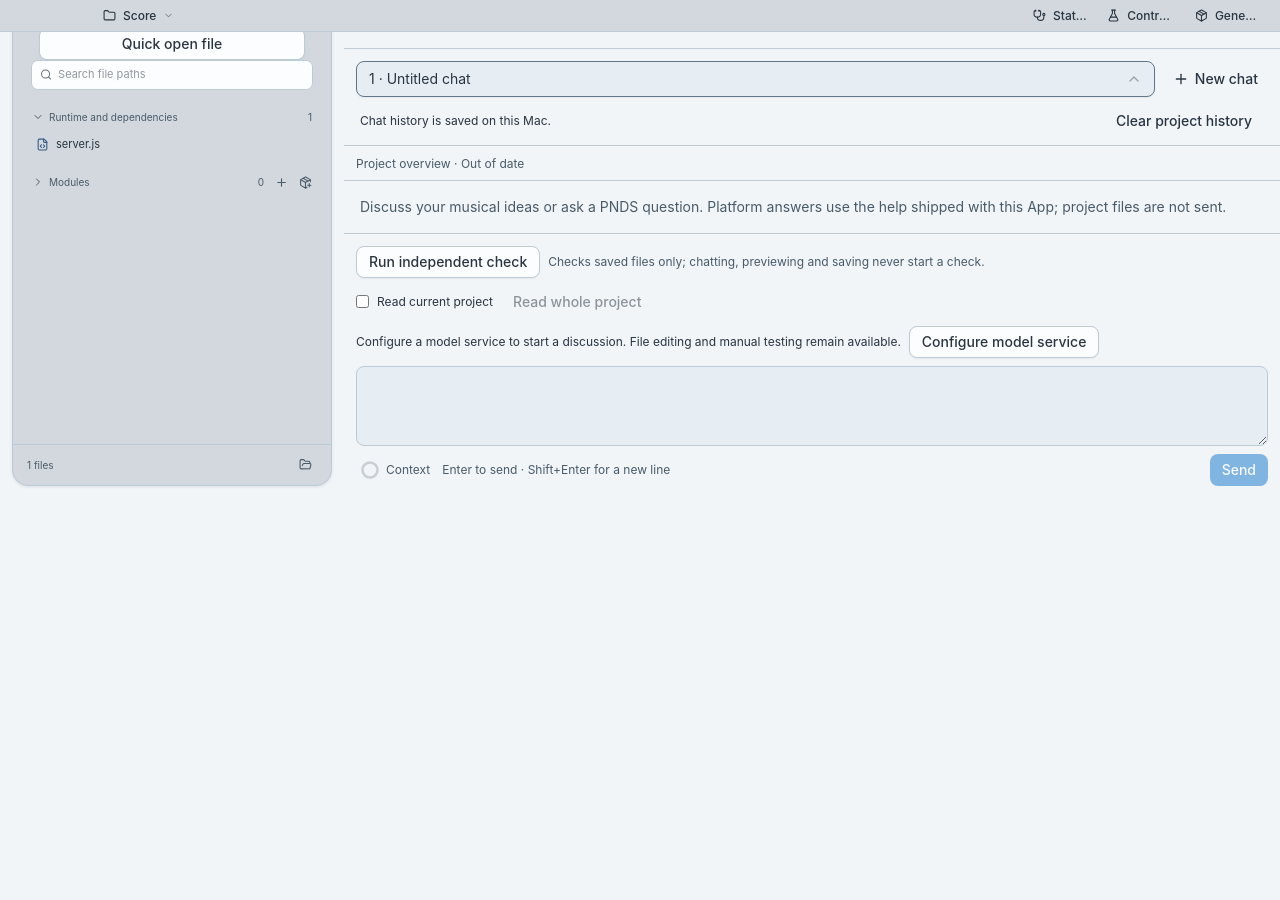
Test: explains unreadable Git repositories and binary files without disabling the editor
The width and height of the screenshot is (1280, 900).
Click the button with aria-label "Project actions" at coordinates (139, 16), box [96,4,181,28]
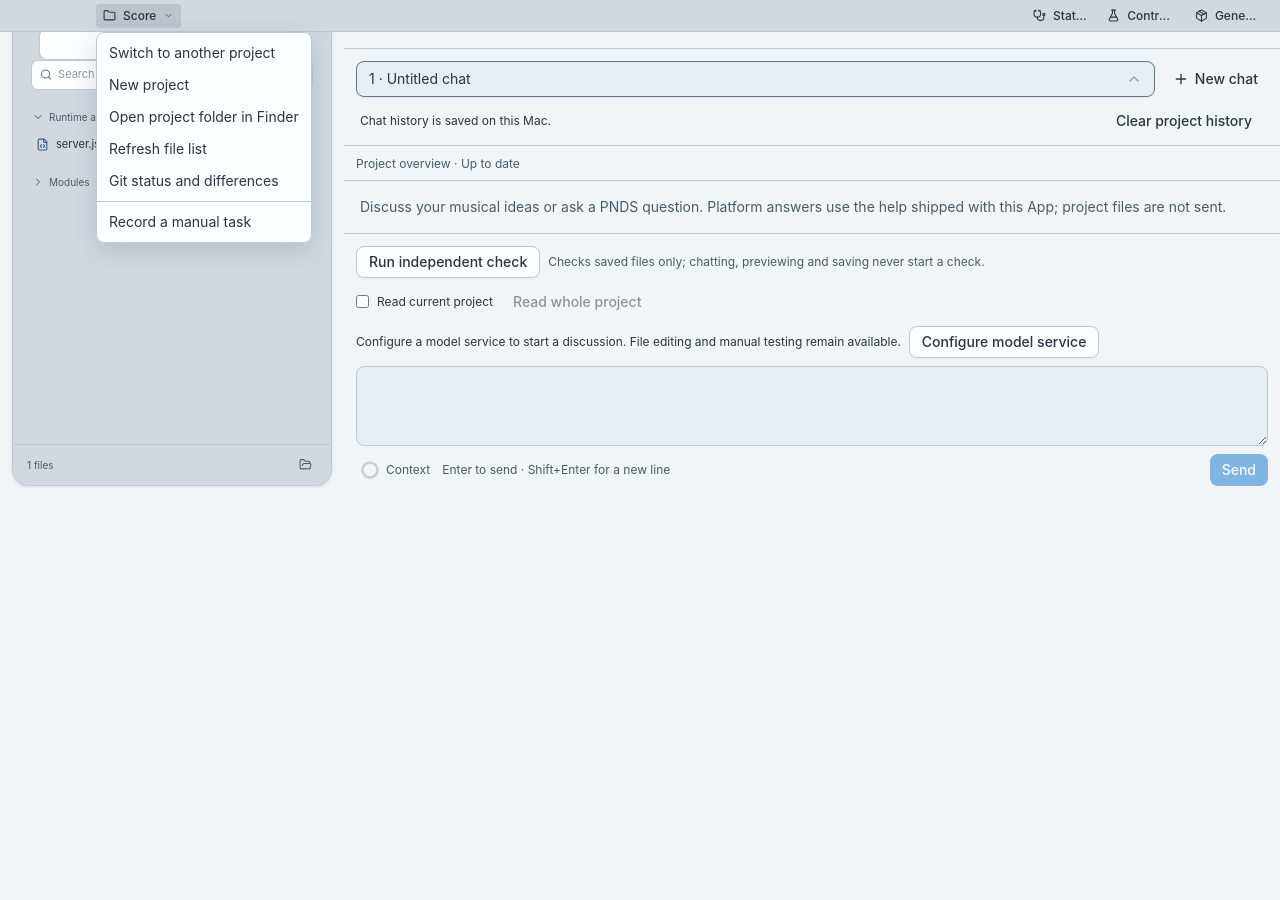
Click the menu item "Git status and differences" at coordinates (194, 180), box [109,172,279,189]
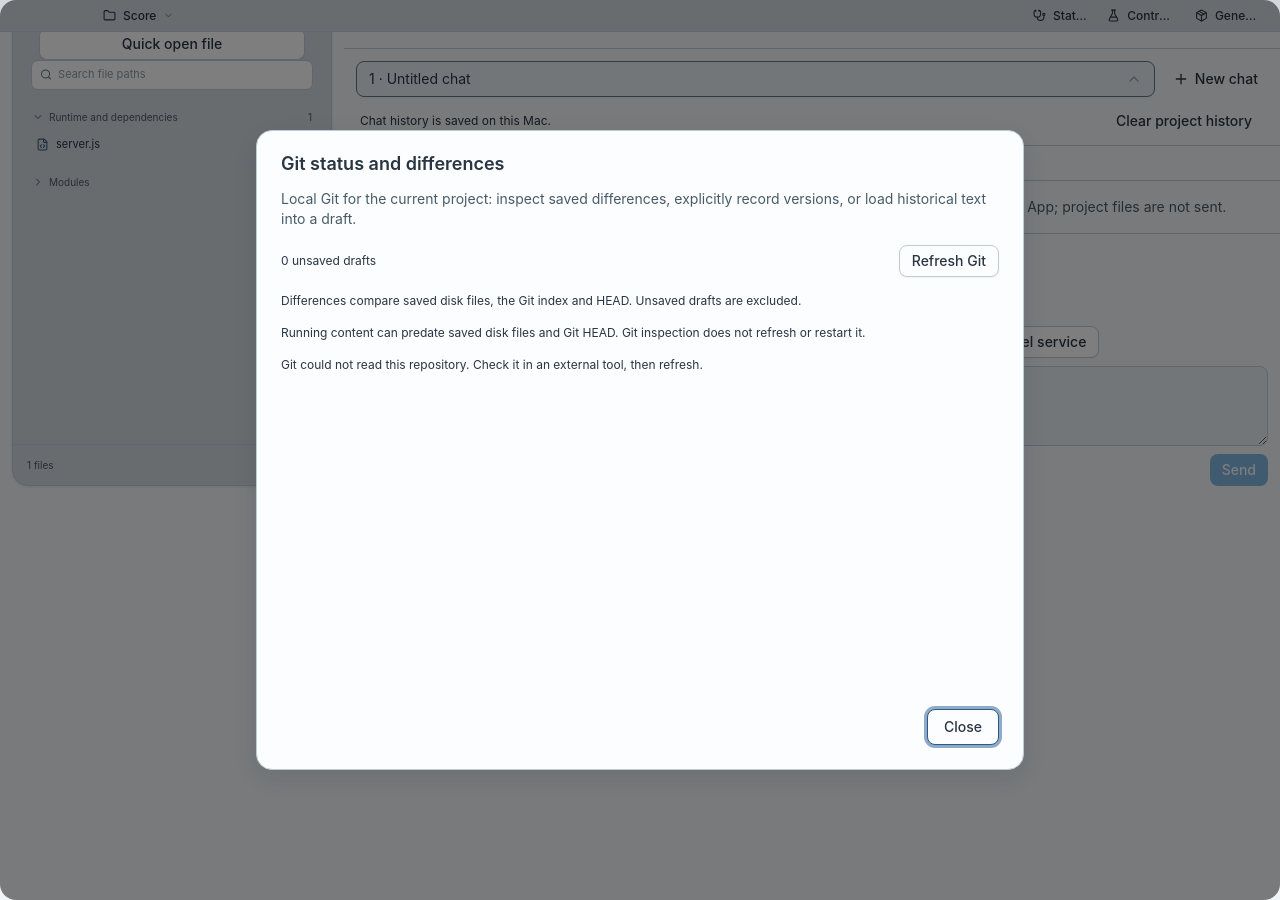
Now the text "Git could not read this repository. Check it in an external tool, then refresh." is shown, box [281,357,703,372]
Click the button "Close" at coordinates (963, 727), box [927,709,999,745]
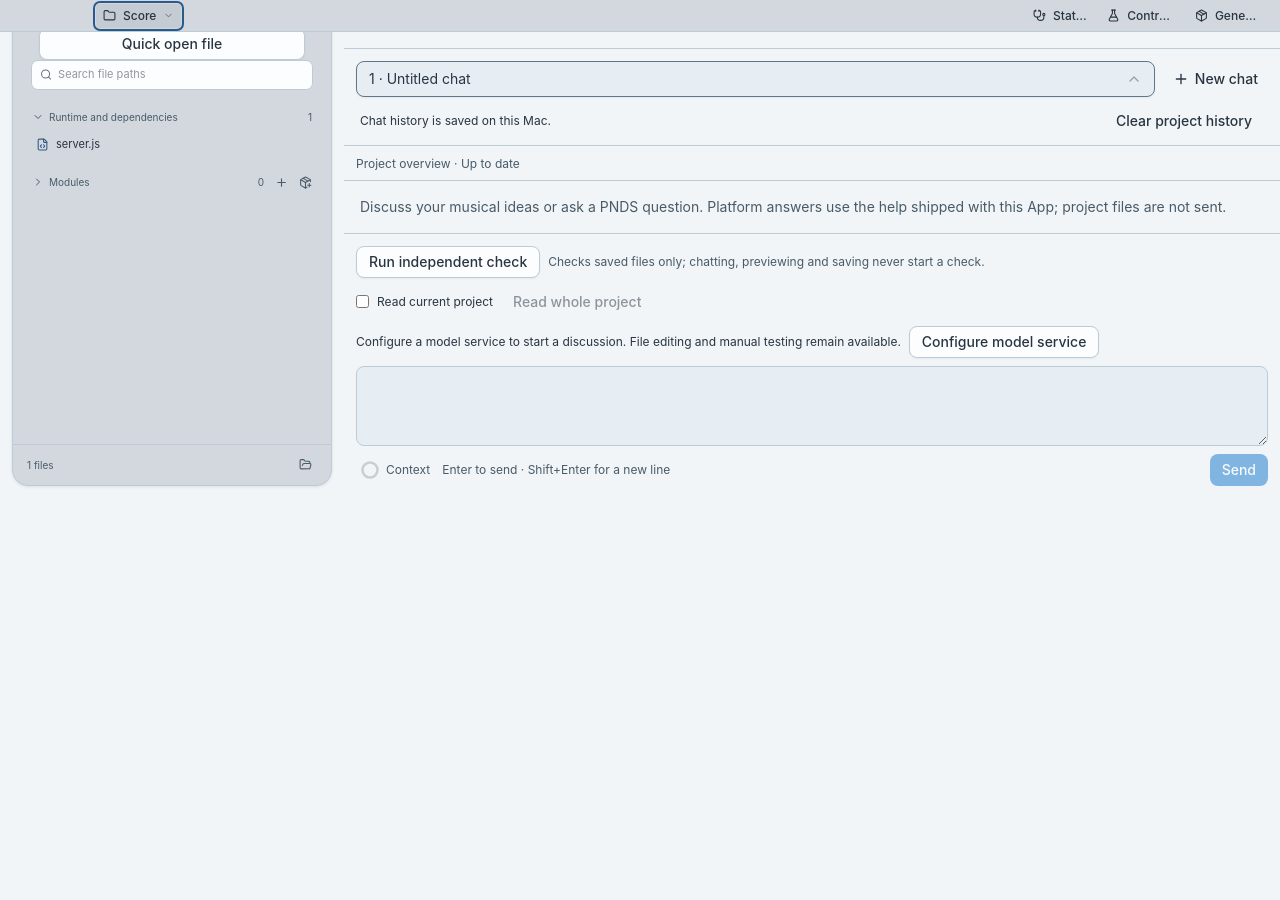
Expected: the button "server.js" is enabled, [27,130,317,159]
Now the dialog is gone
Click the button with aria-label "Project actions" at coordinates (139, 16), box [96,4,181,28]
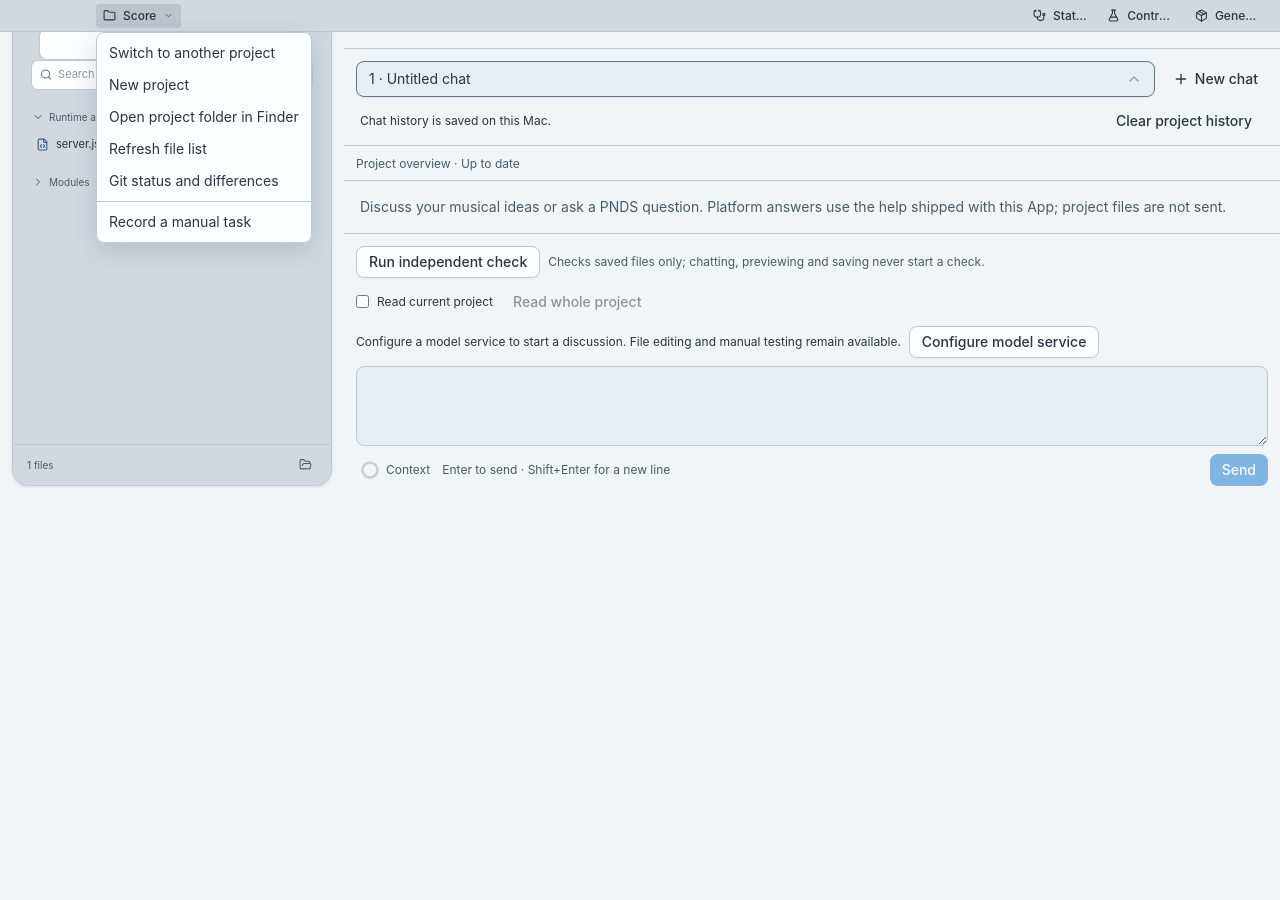
Click the menu item "Git status and differences" at coordinates (194, 180), box [109,172,279,189]
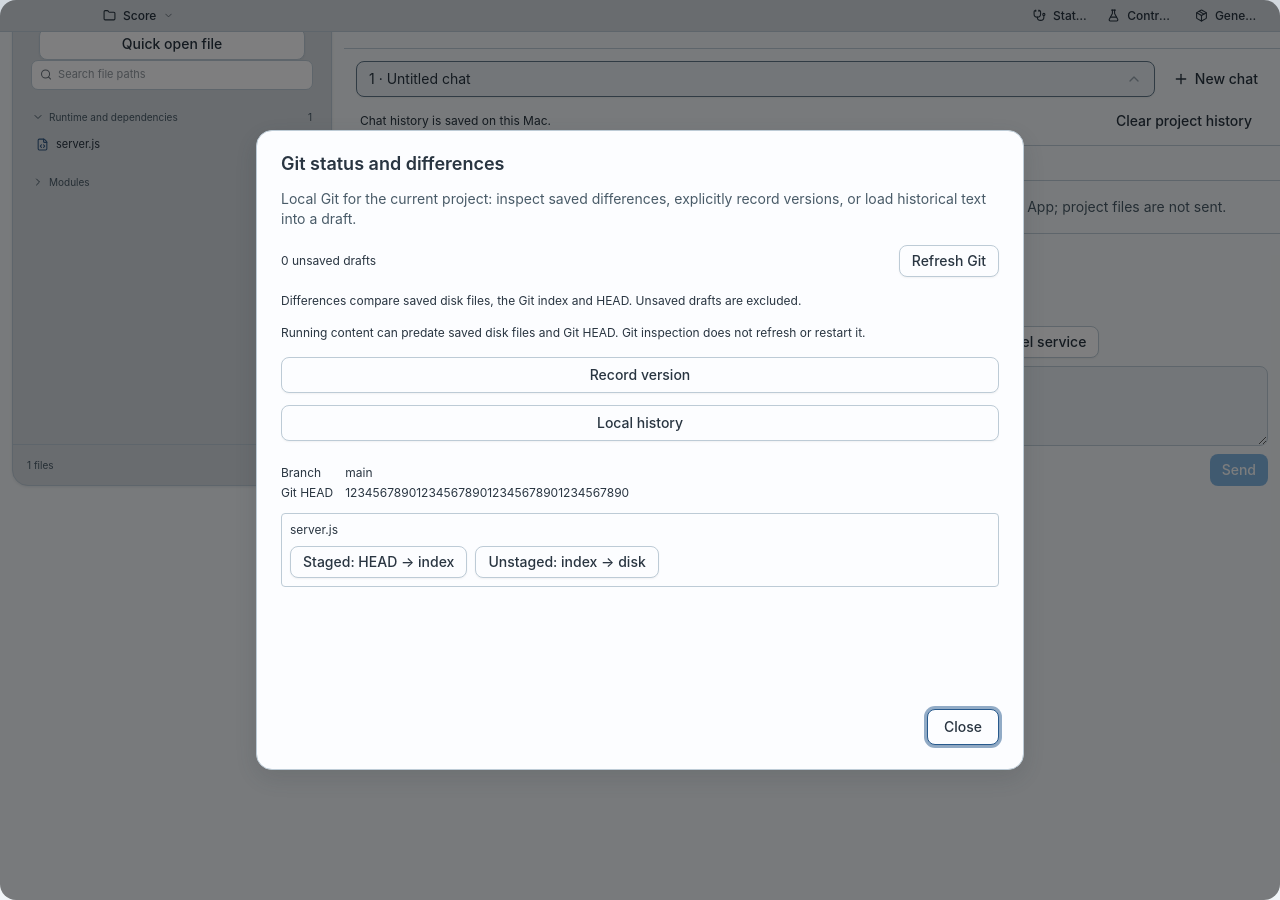
Now the text "main" is shown, box [345,465,372,480]
Click the button with aria-label "server.js — Unstaged: index → disk" at coordinates (567, 562), box [475,546,659,578]
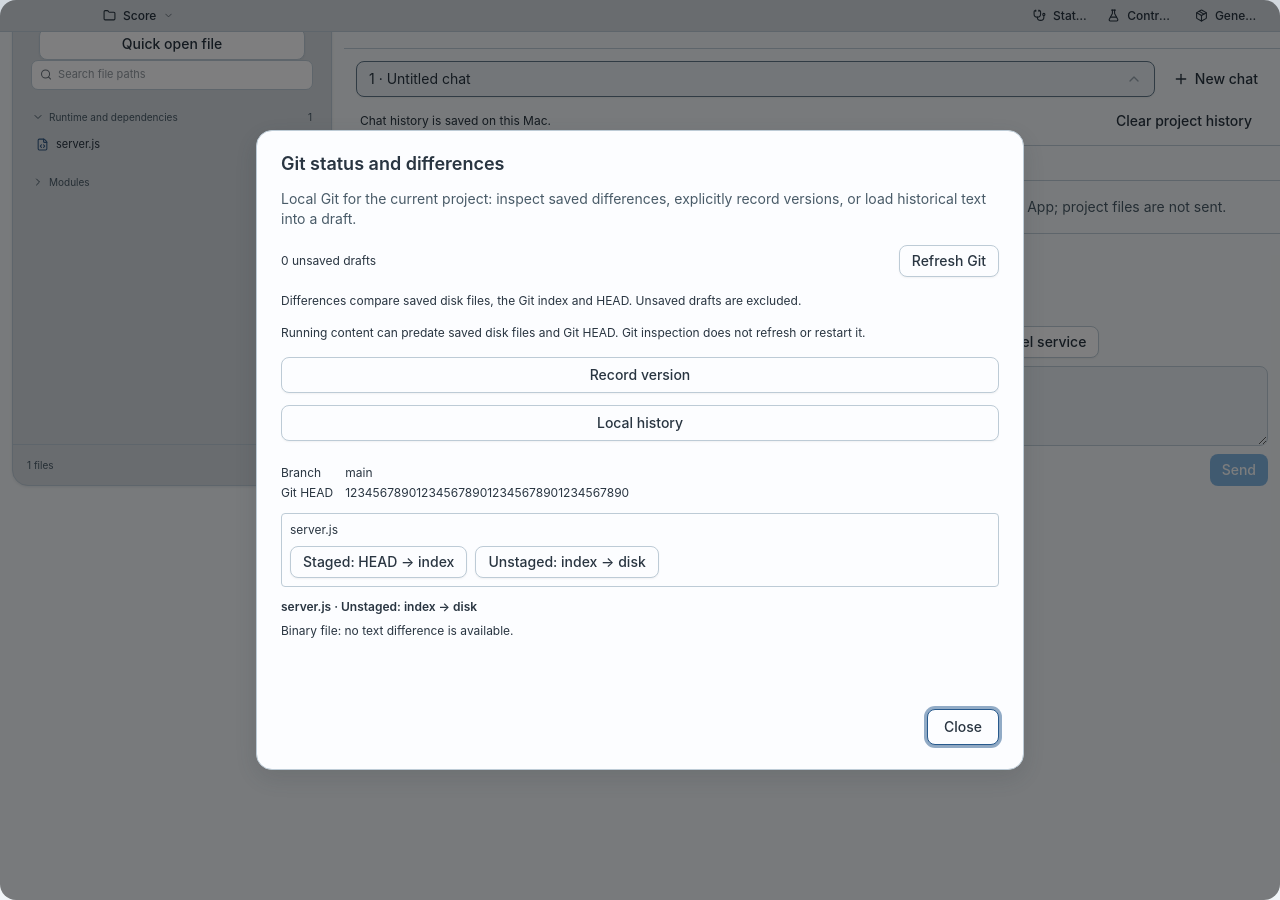
Now the text "Binary file: no text difference is available." is shown, box [281,623,514,638]
